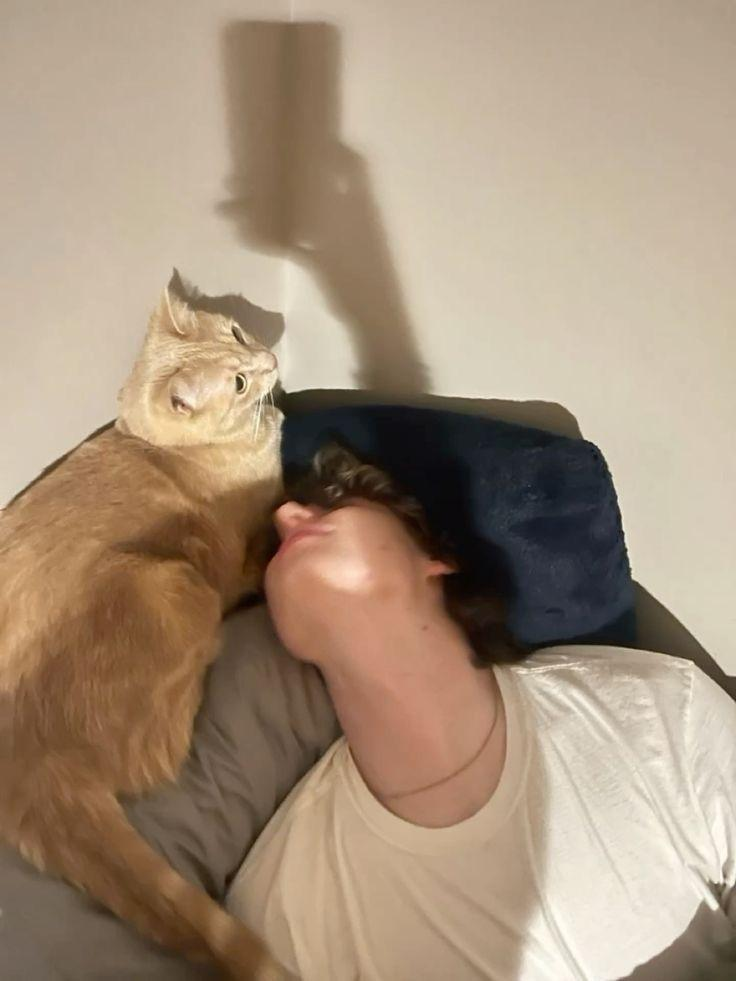kedo: (3, 287, 282, 981)
